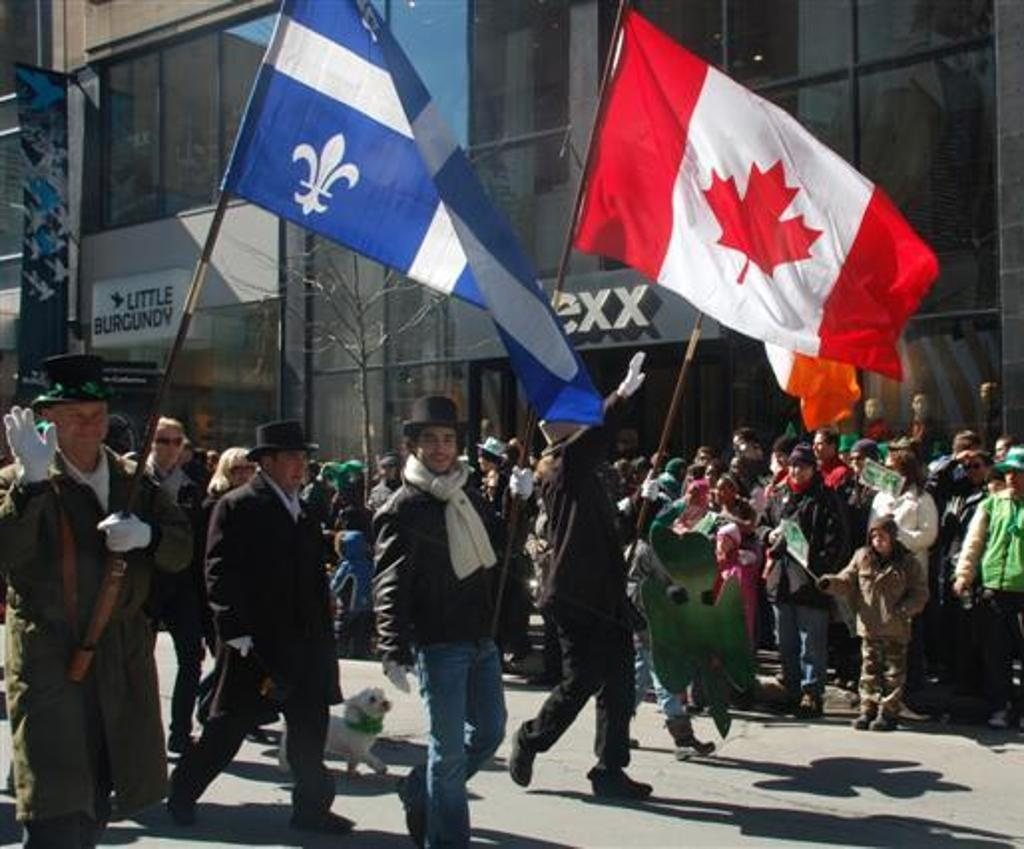human_face: (50, 392, 108, 446), (416, 425, 458, 475), (268, 440, 306, 488), (154, 422, 184, 464), (228, 460, 256, 488), (884, 457, 902, 486), (790, 461, 810, 487), (814, 432, 832, 459), (718, 476, 734, 506), (850, 449, 868, 475), (966, 457, 984, 483), (1004, 466, 1022, 490), (994, 440, 1012, 464), (772, 450, 788, 476), (872, 528, 890, 550), (478, 450, 494, 470), (865, 398, 881, 418), (718, 532, 732, 554), (378, 463, 396, 479), (733, 433, 747, 452), (988, 480, 1000, 502), (912, 396, 926, 414), (706, 466, 718, 482), (981, 385, 993, 401), (205, 454, 217, 468), (697, 450, 709, 464), (686, 469, 698, 483), (730, 460, 742, 474), (674, 464, 682, 478)
